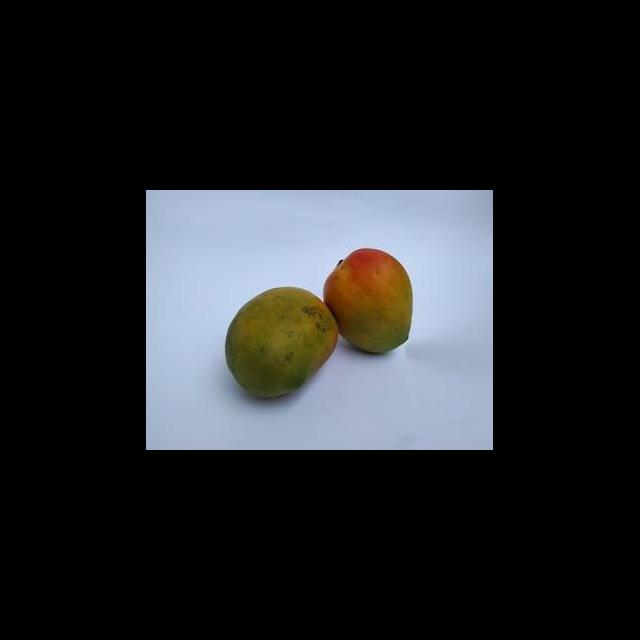mango: (224, 287, 340, 400), (322, 248, 414, 355)
